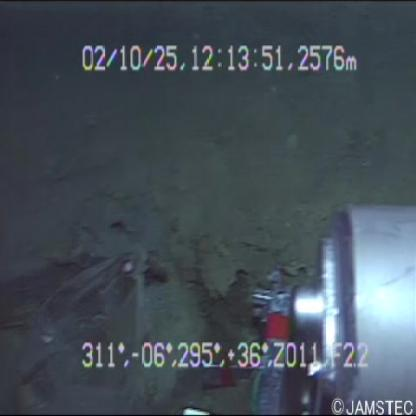Rov: (213, 170, 414, 416)
Rác: (1, 229, 162, 416)
